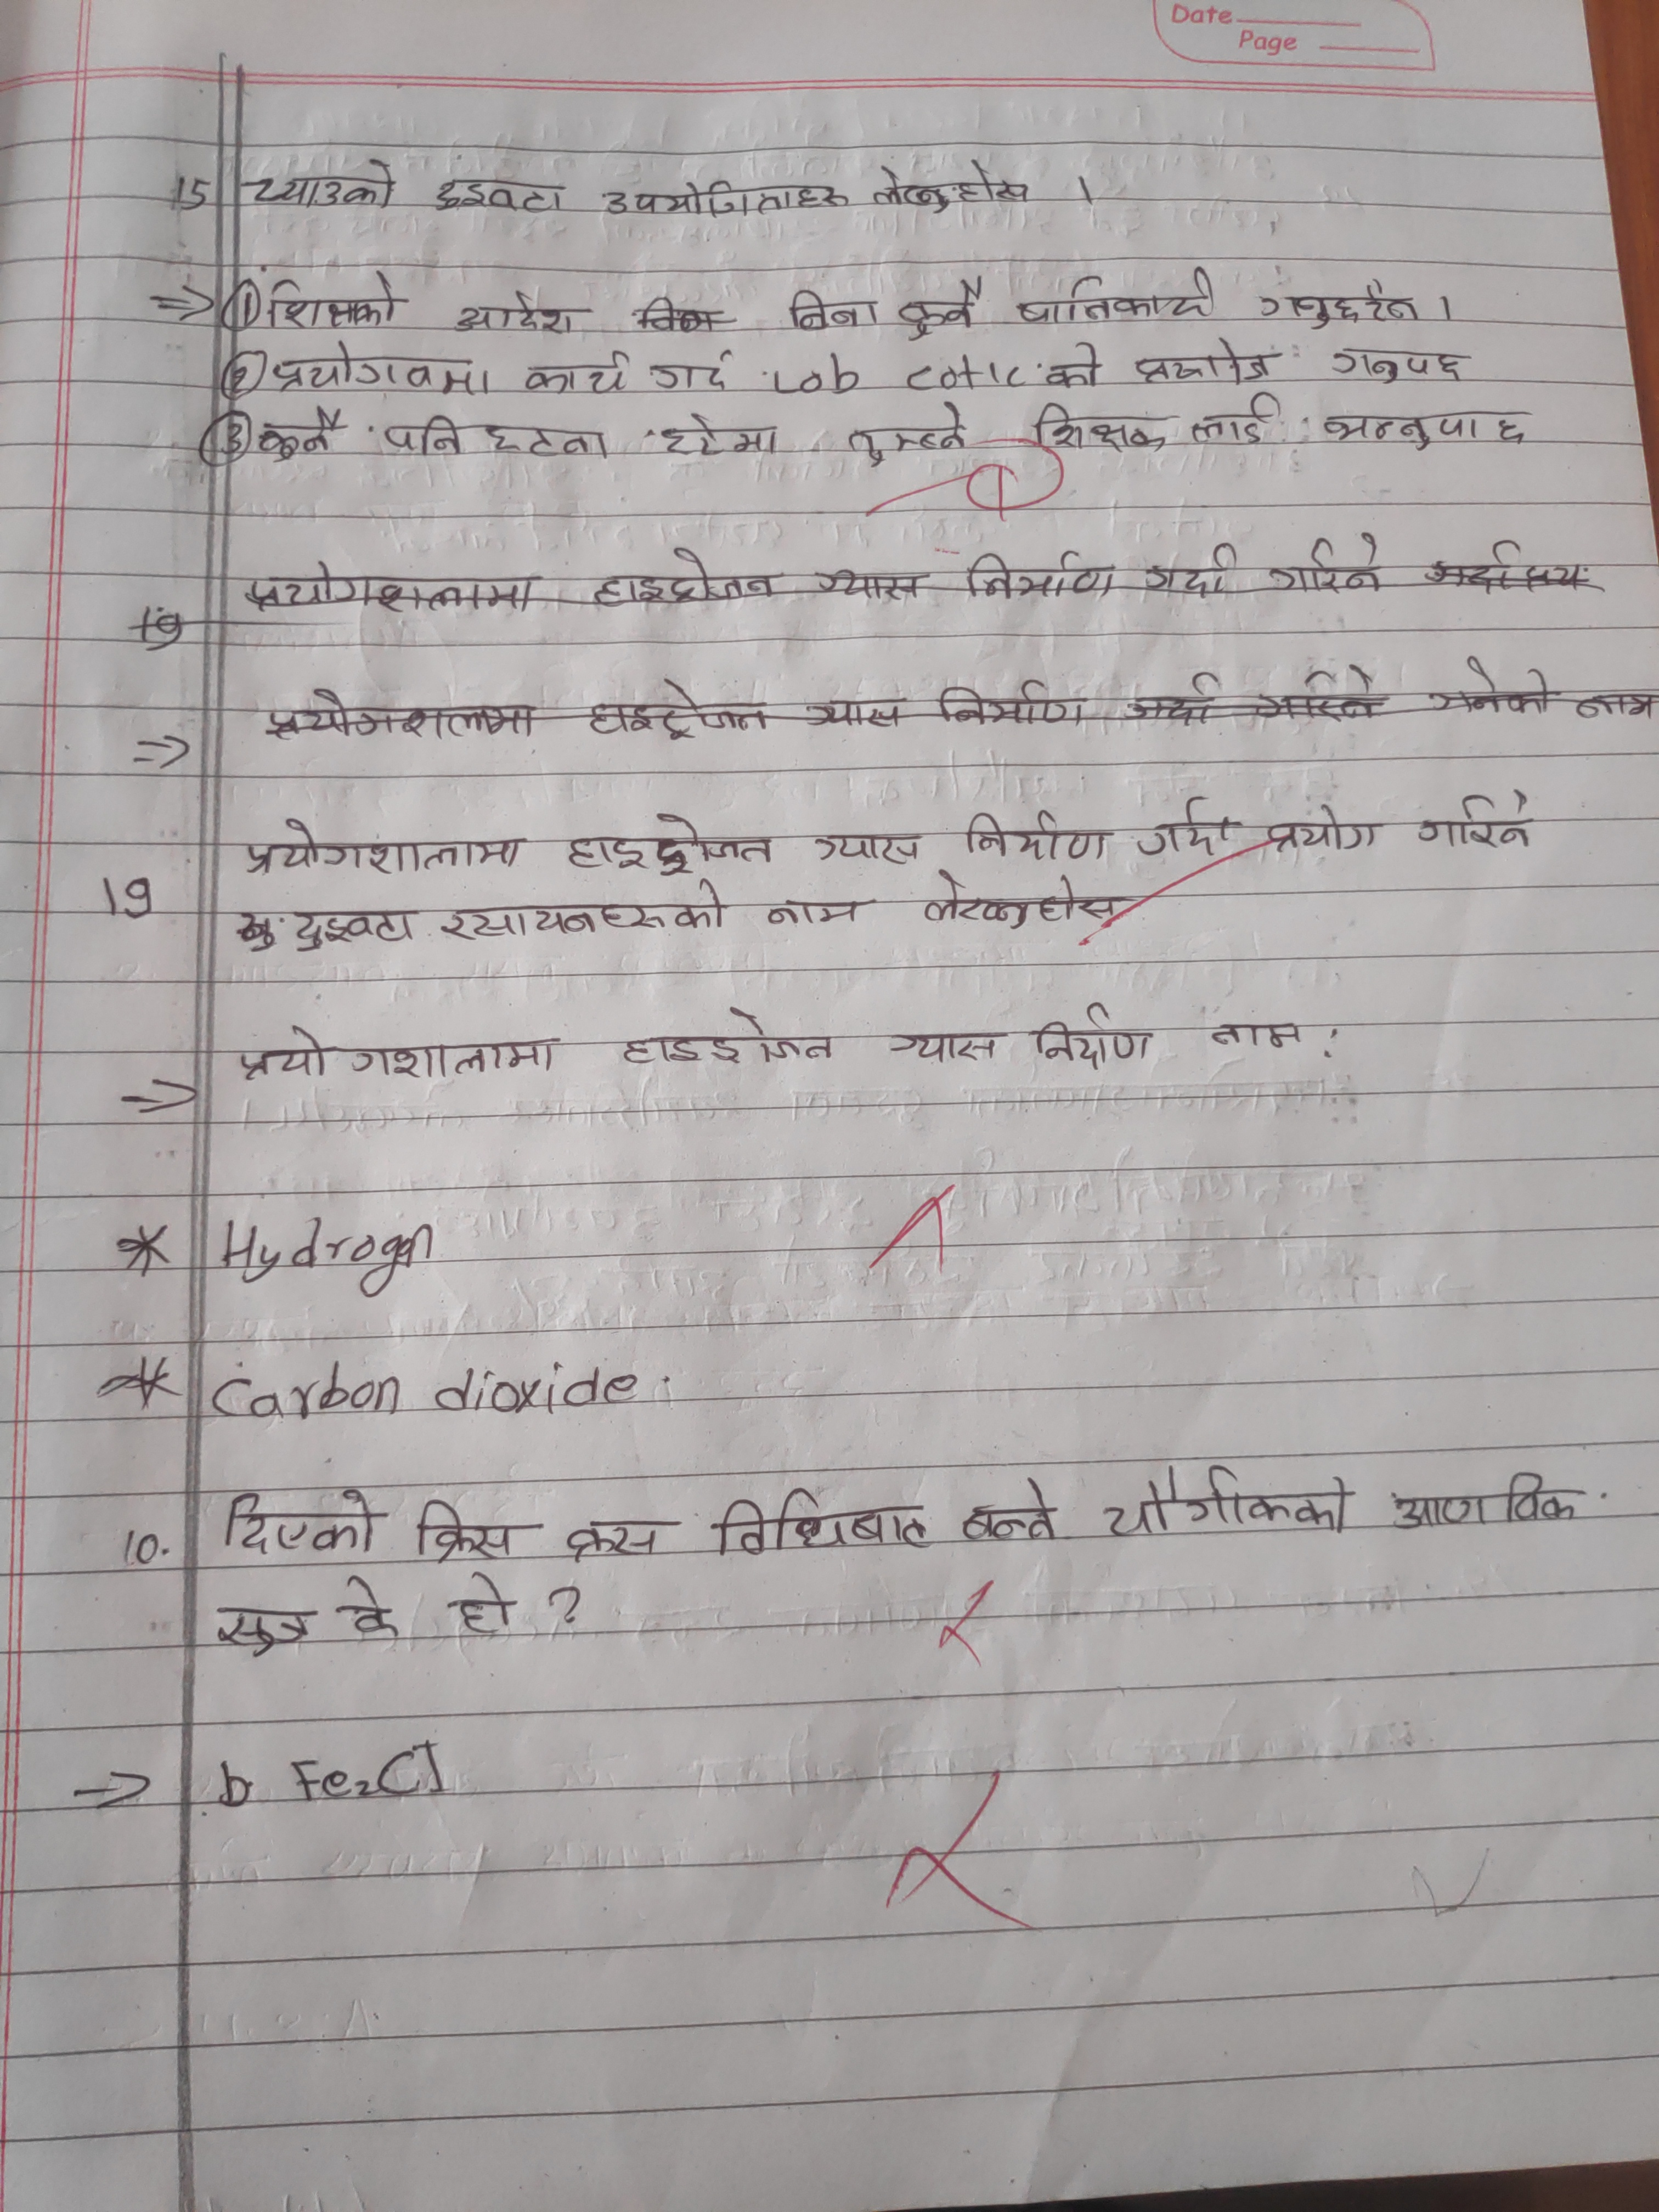text: (1096, 1458, 1354, 1538), (235, 1024, 566, 1083), (235, 817, 526, 880), (709, 1482, 938, 1559), (439, 880, 732, 939), (617, 1003, 838, 1069), (1011, 263, 1223, 331), (563, 812, 777, 878), (270, 338, 493, 401), (213, 1487, 383, 1566), (1389, 1465, 1582, 1533), (920, 869, 1122, 932), (598, 172, 849, 221), (1317, 409, 1541, 455), (1253, 275, 1425, 331), (263, 263, 401, 333), (866, 155, 1037, 211), (240, 157, 401, 216), (1033, 998, 1164, 1069), (843, 399, 971, 470), (965, 805, 1112, 866), (1413, 789, 1541, 855), (960, 1474, 1061, 1550), (1133, 338, 1284, 388), (413, 1496, 519, 1568), (1033, 402, 1173, 456), (288, 902, 420, 956), (657, 411, 788, 465), (450, 289, 580, 341), (1260, 803, 1385, 857), (429, 174, 568, 219), (1331, 341, 1466, 388), (894, 280, 993, 343), (211, 1602, 315, 1662), (1138, 799, 1234, 864), (1185, 392, 1284, 453), (479, 425, 617, 469), (256, 402, 349, 462), (885, 1024, 1006, 1069), (340, 1576, 413, 1648), (448, 1571, 523, 1641), (779, 289, 882, 338), (523, 352, 626, 399), (563, 1517, 673, 1561), (810, 831, 927, 869), (382, 409, 467, 462), (647, 348, 739, 395), (760, 890, 868, 930), (1208, 1017, 1304, 1057), (1042, 340, 1105, 395)
